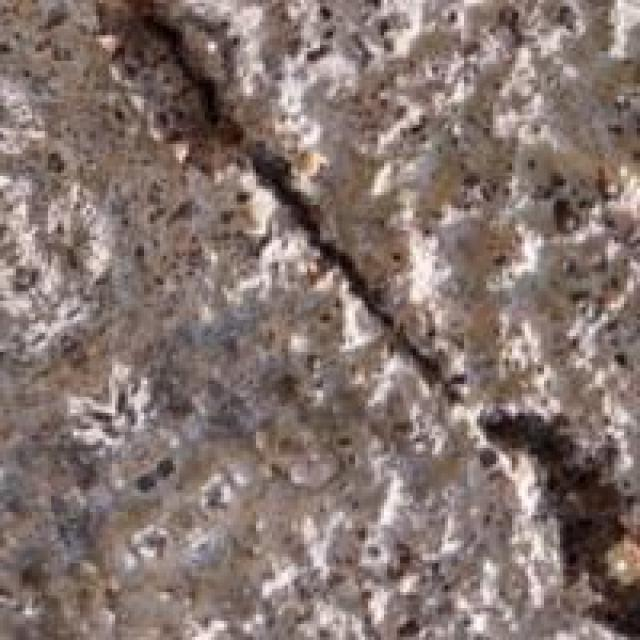Crack: (128, 26, 637, 627)
